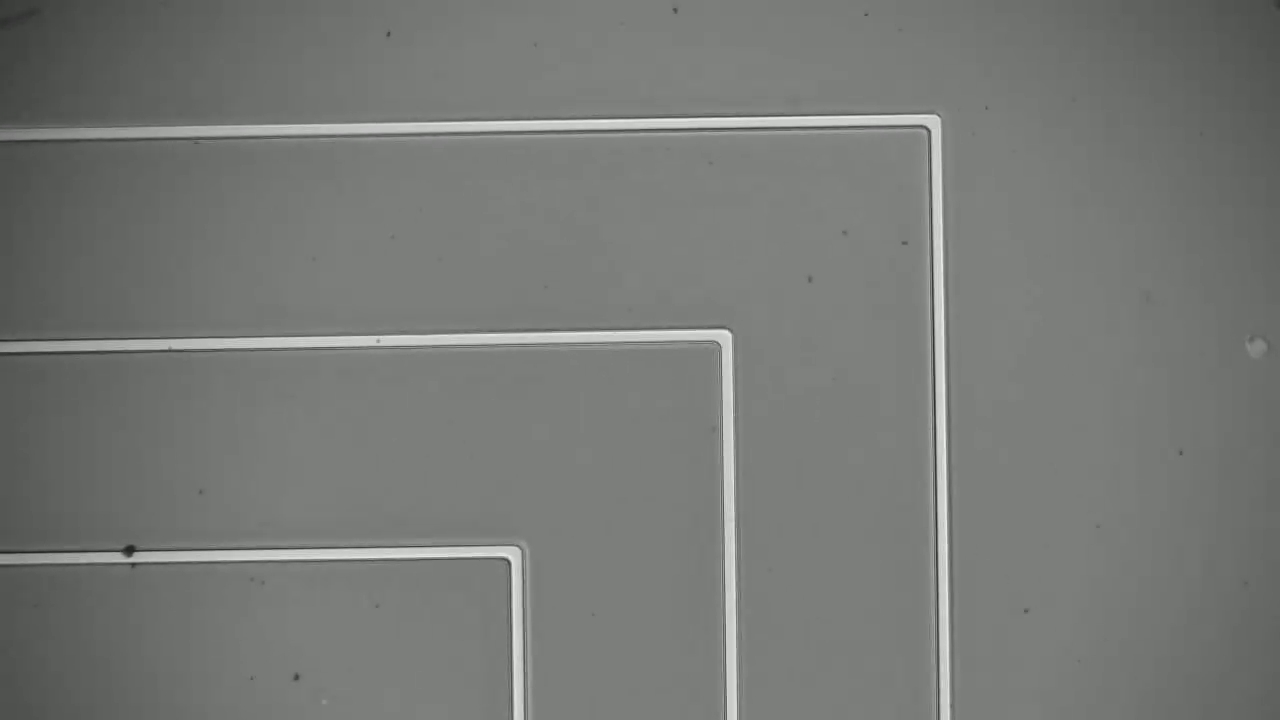stains_enbedded: (118, 536, 140, 570)
